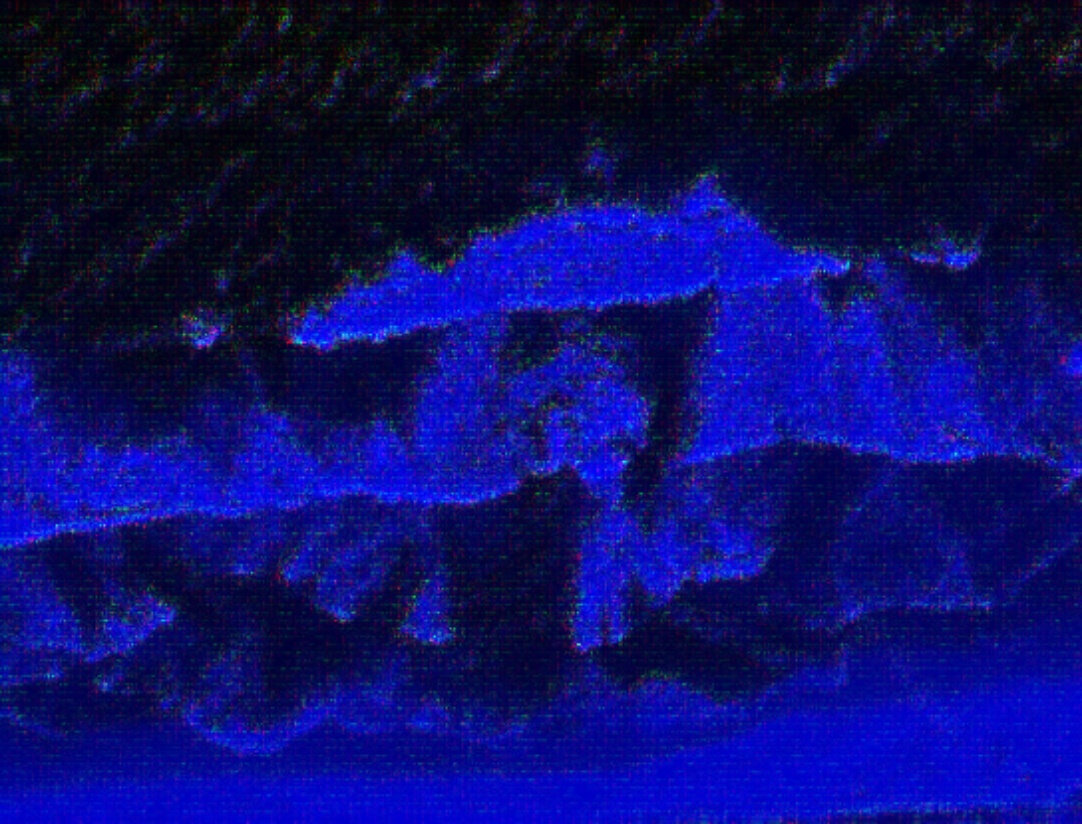rip_current: (419, 242, 730, 715)
